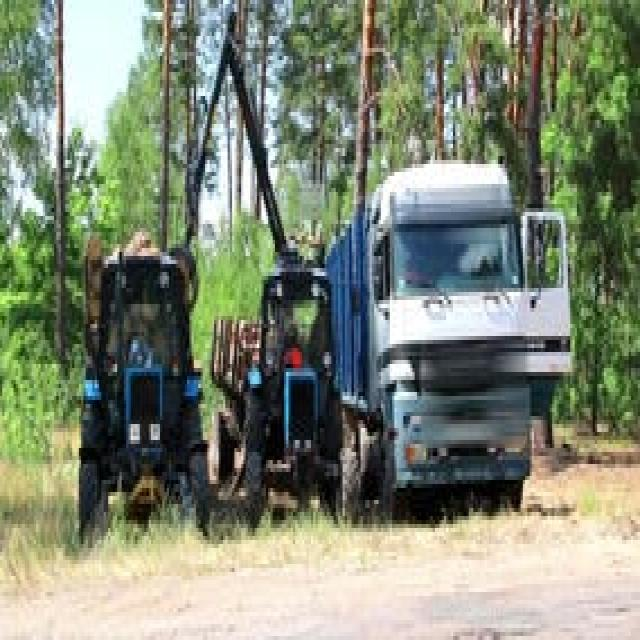Truck: (326, 172, 572, 530), (69, 223, 215, 543)
